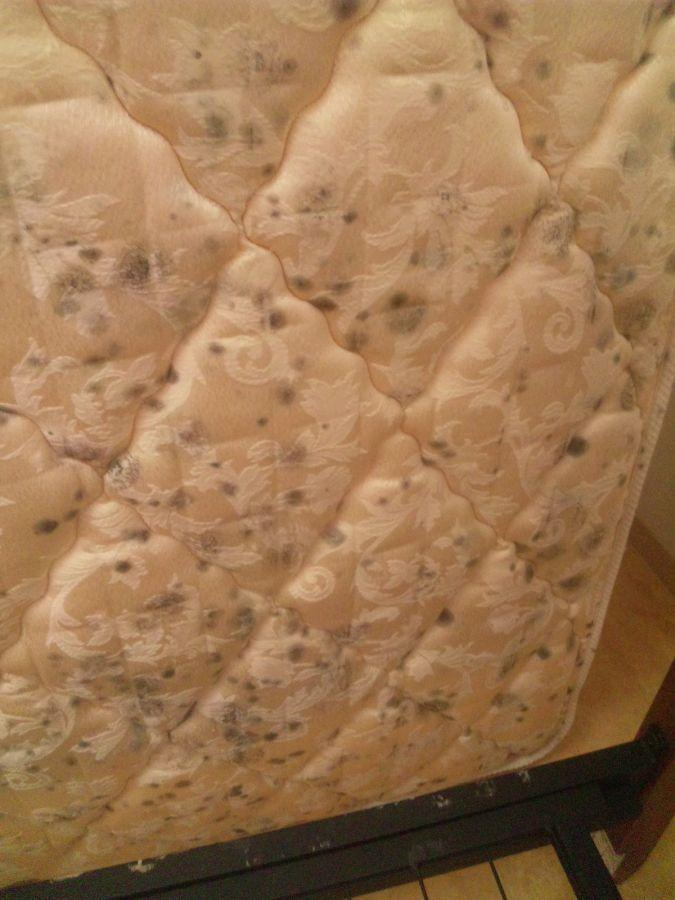Bed-Mattress: (0, 0, 675, 888)
